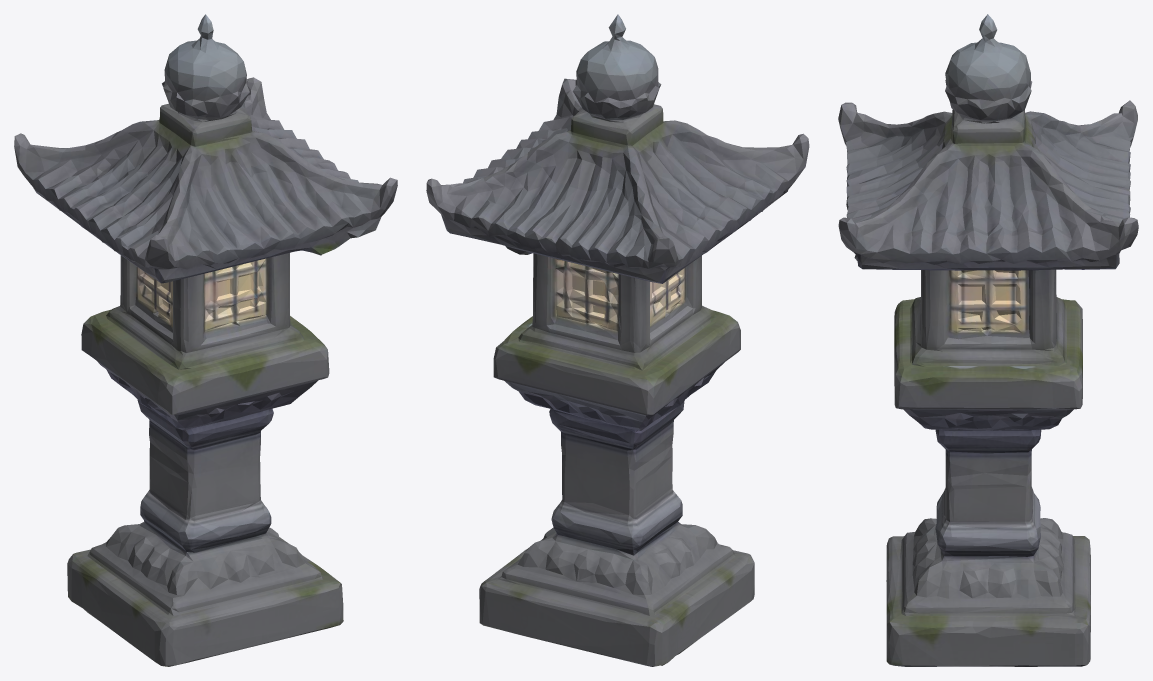
Rendered from lantern.glb.
3 renders of one model, left to right at view 1: azimuth 30°, elevation 25°; view 2: azimuth 150°, elevation 25°; view 3: azimuth 270°, elevation 25°, orthographic.
Parts seen in each view (by area): view 1: tmpp7ap5kr_.ply; view 2: tmpp7ap5kr_.ply; view 3: tmpp7ap5kr_.ply.
Boxes of the visible parts, bbox=[...] form: tmpp7ap5kr_.ply: bbox=[14, 14, 397, 666]; tmpp7ap5kr_.ply: bbox=[426, 14, 809, 666]; tmpp7ap5kr_.ply: bbox=[838, 14, 1138, 666].
Bounding box in the file's own units: 0.8664 × 1.99 × 0.8931.
1 material, 1 textured.
